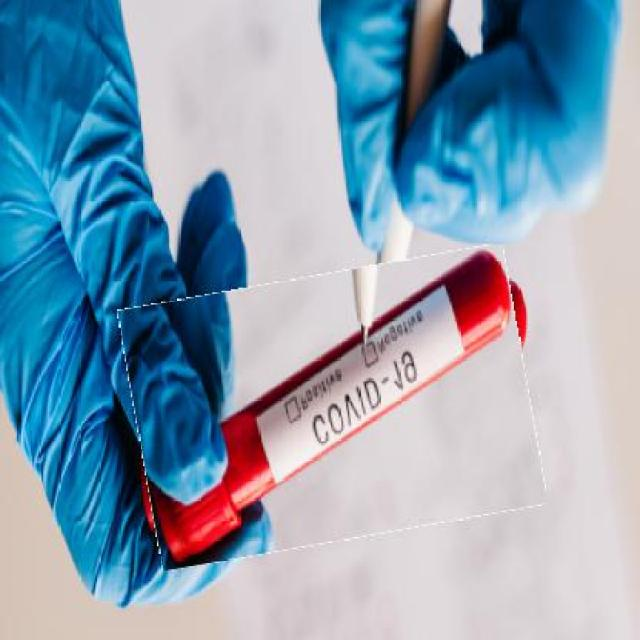Experimental-tube: (127, 258, 538, 554)
